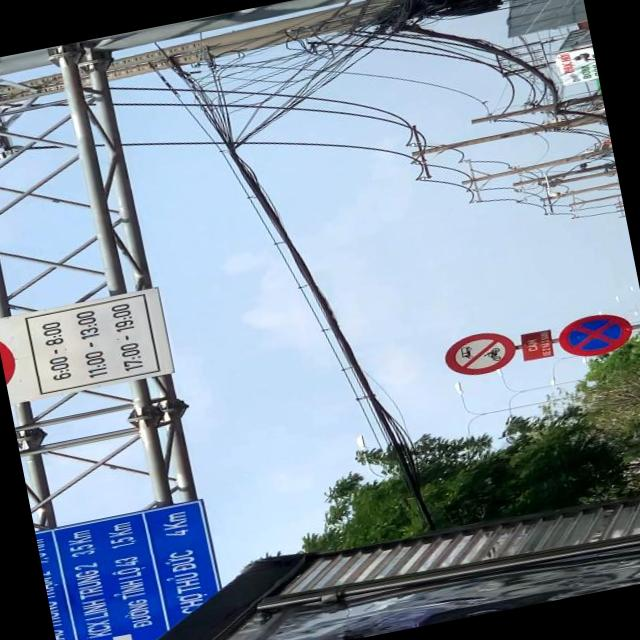P-130: (556, 309, 636, 360)
